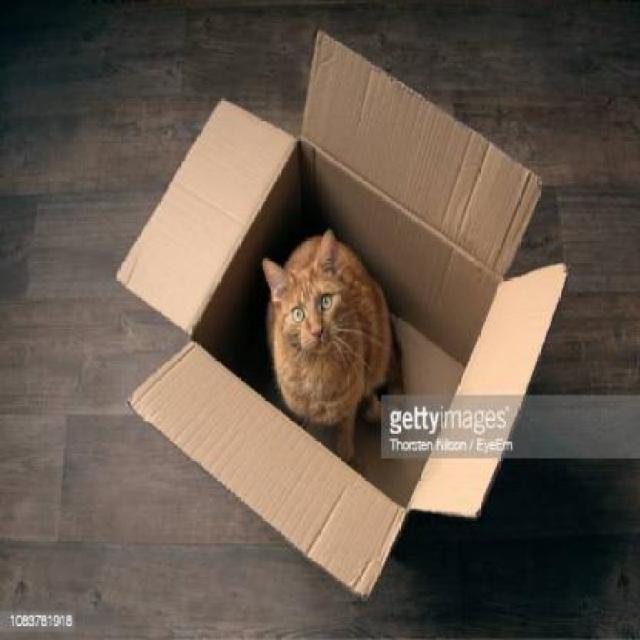box: (113, 45, 552, 593)
